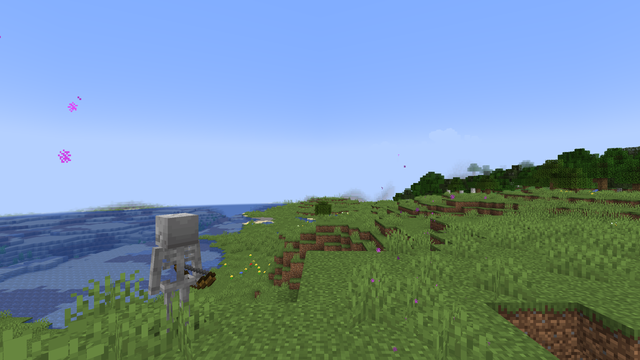squelettes: (148, 213, 201, 339)
